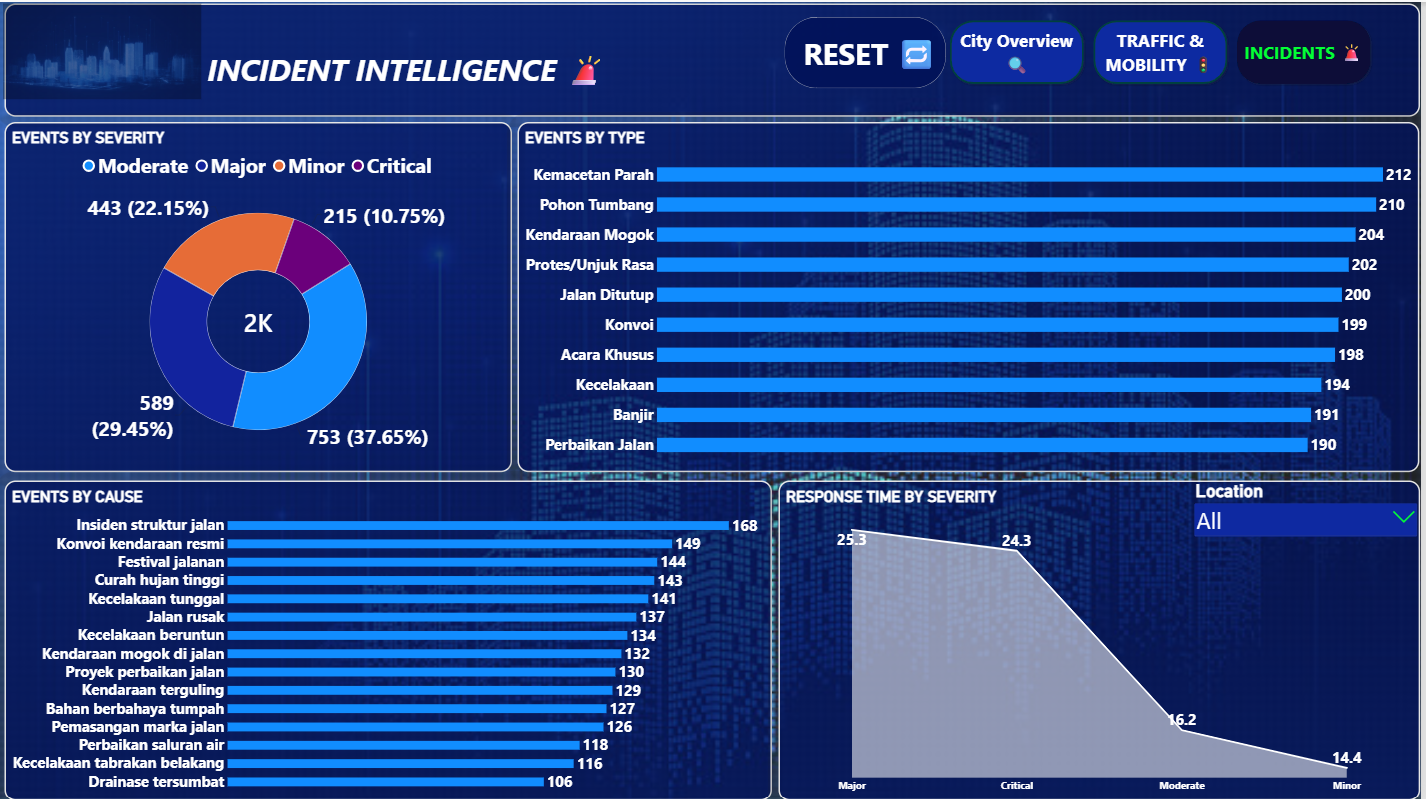

The page's visual inventory and layout, read from the dashboard file:
{"tool":"powerbi","page":{"name":"INCIDENTS 🚨","canvas":[3840,2160],"ordinal":2},"visuals":[{"type":"textbox","box":[11.3,5.7,3826.8,306.1],"z":0},{"type":"pageNavigator","box":[2557.5,40.9,1158.4,190.8],"z":1000},{"type":"image","box":[9.1,4.5,536,258.9],"z":2000},{"type":"donutChart","title":"EVENTS BY SEVERITY","fields":{"Category":["traffic_events.severity"],"Y":["Measure.Total events"]},"box":[11.3,323.2,1372,946.8],"z":3000},{"type":"clusteredBarChart","title":"EVENTS BY TYPE","fields":{"Category":["traffic_events.event_type"],"Y":["Measure.Total events"]},"box":[1400.3,323.2,2437.8,946.8],"z":4000},{"type":"clusteredBarChart","title":"EVENTS BY CAUSE","fields":{"Y":["Measure.Total events"],"Category":["traffic_events.cause"]},"box":[11.3,1292.6,2075,867.4],"z":5000},{"type":"lineChart","title":"RESPONSE TIME BY SEVERITY","fields":{"Category":["traffic_events.severity"],"Y":["Measure.AVG response Time"]},"box":[2103.3,1292.6,1734.8,867.4],"z":6000},{"type":"actionButton","box":[2120.3,39.7,436.5,192.8],"z":7000},{"type":"slicer","fields":{"Values":["Locations.Location"]},"box":[3225.9,1292.6,612.3,192.8],"z":8000}]}

Visuals, with their boxes in screenshot pixels (x1, y1, x2, y2), scaled from the page's 3840x2160 canvas onto the 1426x799 screenshot:
textbox: [x1=4, y1=2, x2=1425, y2=115]
pageNavigator: [x1=950, y1=15, x2=1380, y2=86]
image: [x1=3, y1=2, x2=202, y2=97]
"EVENTS BY SEVERITY" donutChart: [x1=4, y1=120, x2=514, y2=470]
"EVENTS BY TYPE" clusteredBarChart: [x1=520, y1=120, x2=1425, y2=470]
"EVENTS BY CAUSE" clusteredBarChart: [x1=4, y1=478, x2=775, y2=798]
"RESPONSE TIME BY SEVERITY" lineChart: [x1=781, y1=478, x2=1425, y2=798]
actionButton: [x1=787, y1=15, x2=949, y2=86]
slicer - Locations.Location: [x1=1198, y1=478, x2=1425, y2=549]
